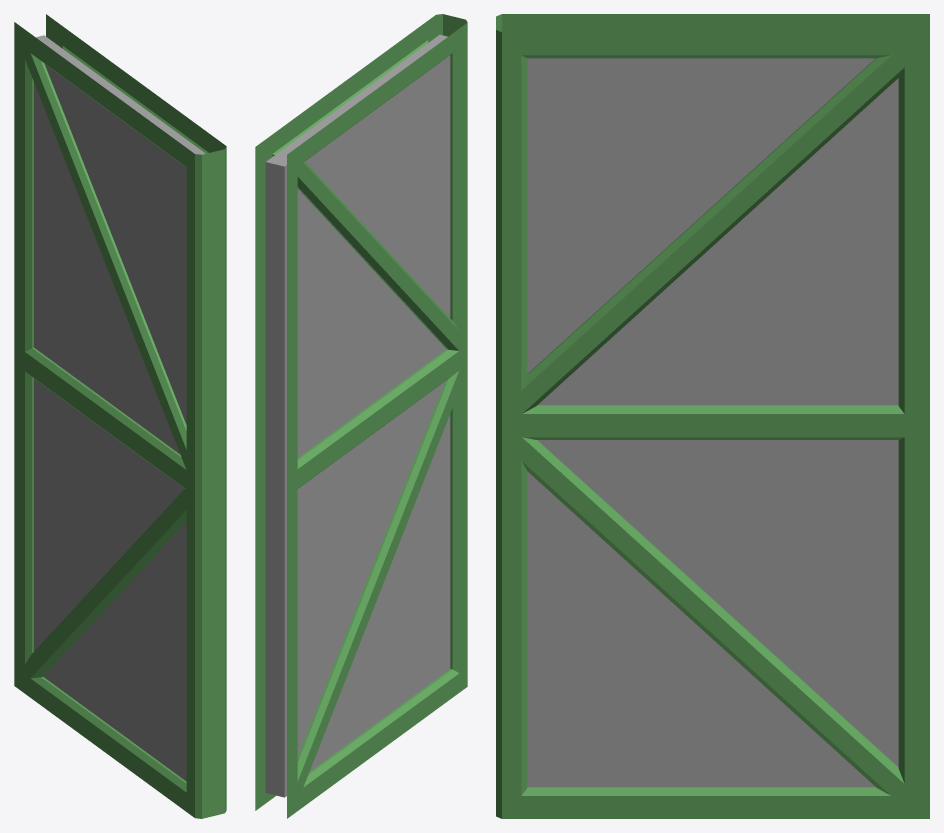
The model's file is windowTest.fbx.
The picture shows the model from 3 angles, left to right: view 1: azimuth 30°, elevation 25°; view 2: azimuth 150°, elevation 25°; view 3: azimuth 270°, elevation 25°; orthographic projection. The views are drawn at different scales.
Visible parts, largest first — view 1: pCube1, hallway; view 2: pCube1, hallway; view 3: pCube1, hallway.
Part boxes in pixels (x1,y1,x2,y2): pCube1: [34, 35, 205, 781]; hallway: [14, 14, 226, 818]; pCube1: [265, 34, 450, 797]; hallway: [255, 14, 467, 818]; pCube1: [527, 58, 898, 786]; hallway: [496, 14, 929, 818].
Bounding box in the file's own units: 0.05 × 1 × 0.5.
